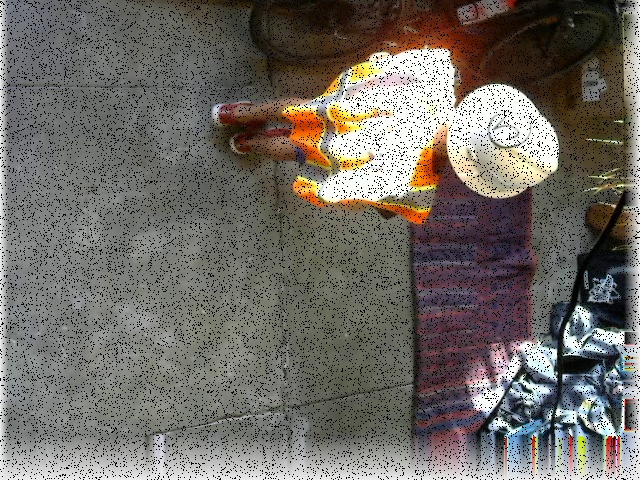two: (487, 109, 532, 147)
